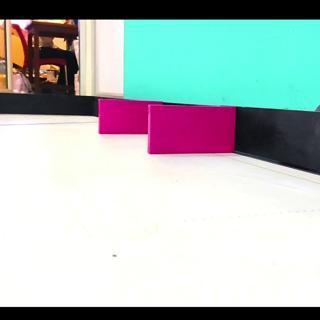xparking: (150, 106, 234, 154), (100, 101, 148, 134)
